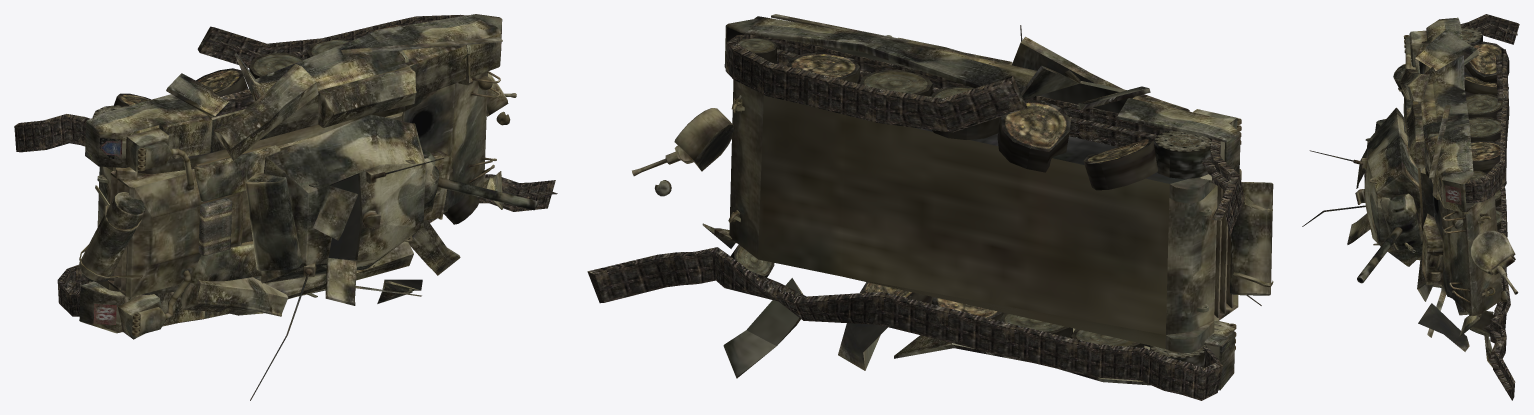
Rendered from vehicle_crusader2_destroyed.glb.
The picture shows the model from 3 angles, left to right: view 1: azimuth 30°, elevation 25°; view 2: azimuth 150°, elevation 25°; view 3: azimuth 270°, elevation 25°; orthographic projection. The views are drawn at different scales.
Bounding box in the file's own units: 352 × 191 × 152.
6 materials, 6 textured.
